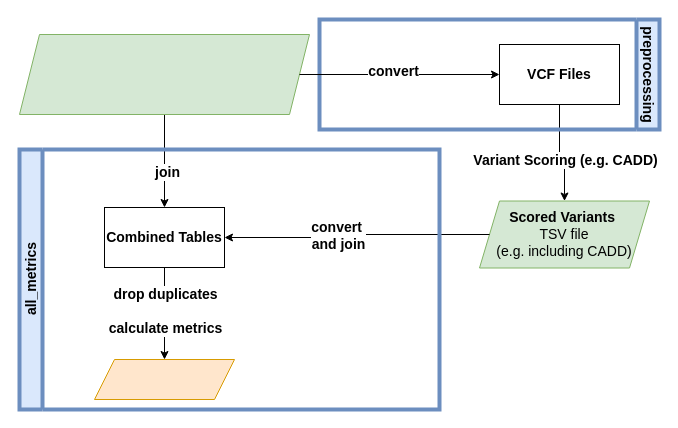
Some shapes in this 678 by 428 pixel diagram are drawn without their labels. Each missing label, with the centre of its shape:
"Metrics tables" goes at point (164, 379).
"Variants Table file Headers: CHROM, POS, REF, ALT, labels" goes at point (164, 74).
